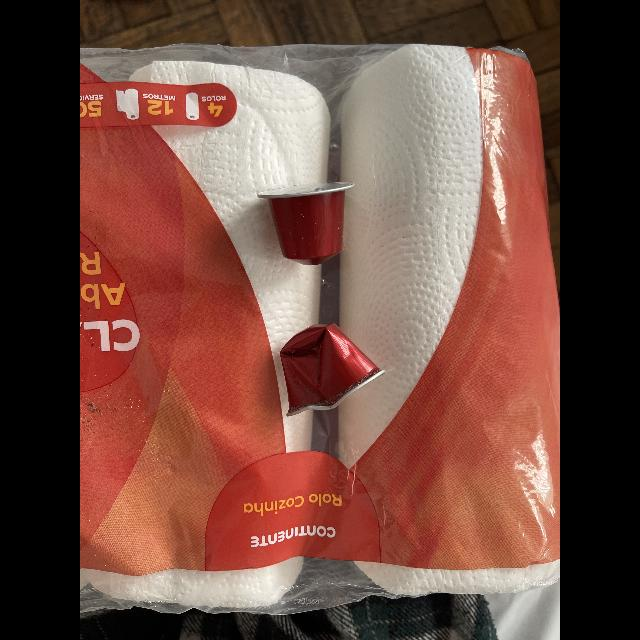damaged_capsule: (270, 328, 396, 422)
intact_capsule: (250, 180, 374, 272)
